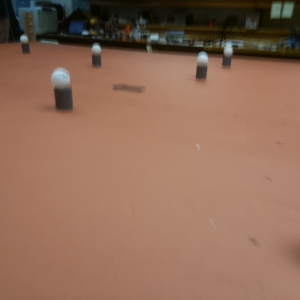obstacle: (50, 69, 76, 113), (196, 53, 209, 83), (91, 44, 103, 68), (20, 35, 31, 56), (224, 49, 234, 70)
